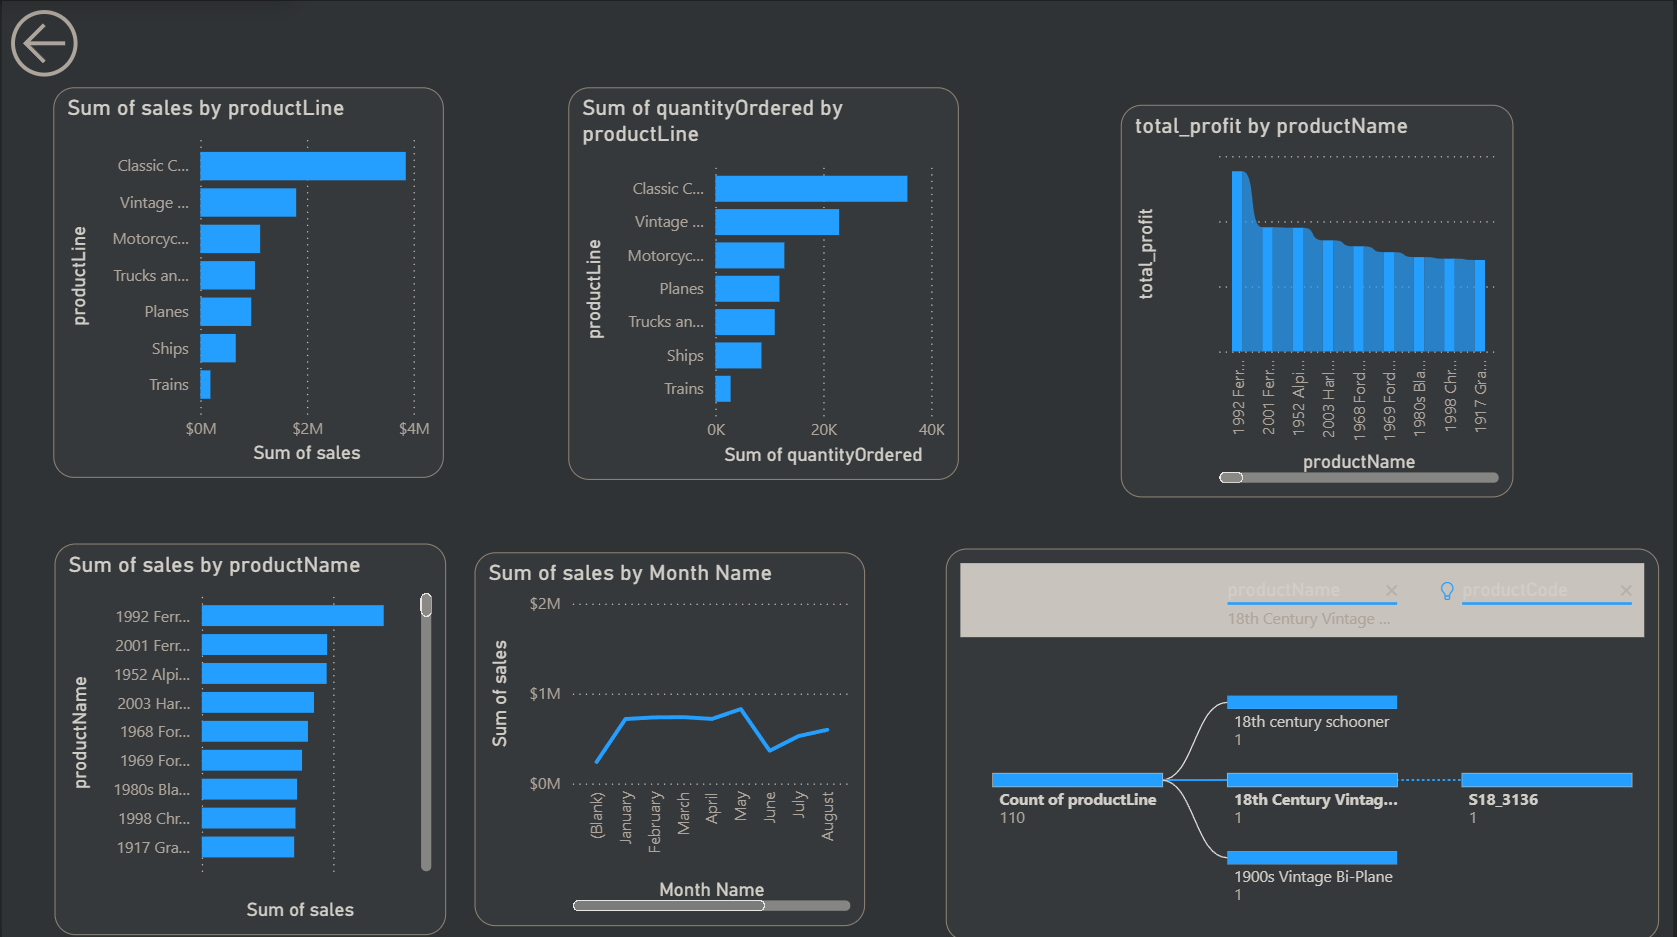

The page's visual inventory and layout, read from the dashboard file:
{"tool":"powerbi","page":{"name":"Page 2","canvas":[1280,720],"ordinal":2},"visuals":[{"type":"actionButton","box":[0,0,121.1,64.8],"z":0},{"type":"barChart","fields":{"Category":["products.productLine"],"Y":["Sum(order details.sales)"]},"box":[39.1,66,299.6,299.6],"z":1000},{"type":"barChart","fields":{"Category":["products.productLine"],"Y":["Sum(order details.quantityOrdered)"]},"box":[434.1,66,299.6,300.8],"z":2000},{"type":"barChart","fields":{"Category":["products.productName"],"Y":["Sum(order details.sales)"]},"box":[40,415.5,300,300],"z":3000},{"type":"lineChart","fields":{"Y":["Sum(order details.sales)"],"Category":["orders.Month Name"]},"box":[362,421.9,299.6,286.1],"z":3001},{"type":"ribbonChart","fields":{"Category":["products.productName"],"Y":["order details.total_profit"]},"box":[857.2,79.5,300.8,300.8],"z":3002},{"type":"decompositionTreeVisual","fields":{"Analyze":["CountNonNull(products.productLine)"],"ExplainBy":["products.productName","products.productCode"]},"box":[722.7,419.4,546.6,300.8],"z":3003}]}

Visuals, with their boxes in screenshot pixels (x1, y1, x2, y2), scaled from the page's 1280x720 canvas onto the 1677x937 screenshot:
actionButton: (0, 0, 159, 84)
barChart - products.productLine x Sum(order details.sales): (51, 86, 444, 476)
barChart - products.productLine x Sum(order details.quantityOrdered): (569, 86, 961, 477)
barChart - products.productName x Sum(order details.sales): (52, 541, 445, 931)
lineChart - Sum(order details.sales) x orders.Month Name: (474, 549, 867, 921)
ribbonChart - products.productName x order details.total_profit: (1123, 103, 1517, 495)
decompositionTreeVisual - CountNonNull(products.productLine) x products.productName: (947, 546, 1663, 936)
